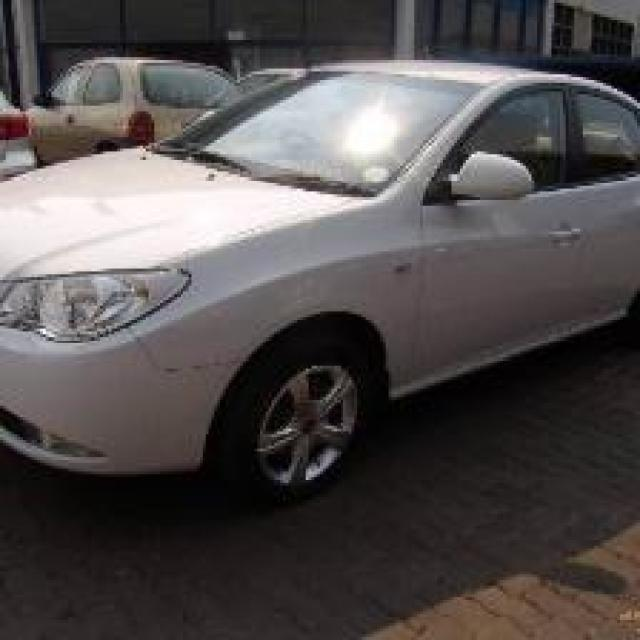damaged: (122, 332, 258, 388)
